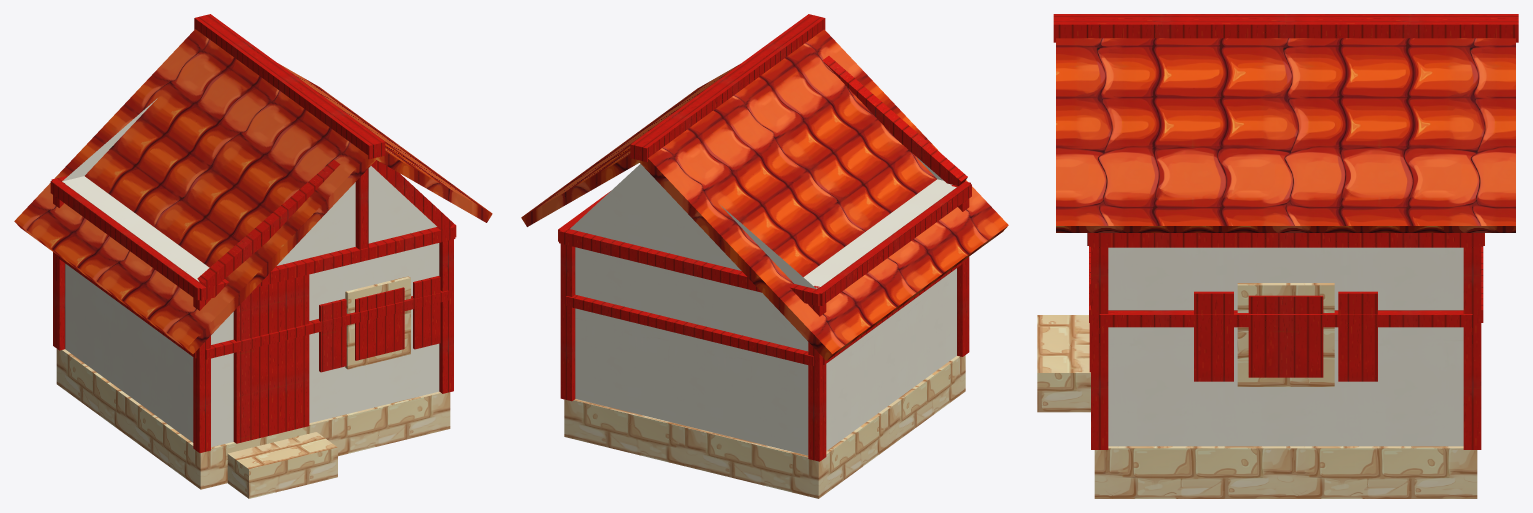
Rendered from maison_3x3.glb.
The picture shows the model from 3 angles, left to right: view 1: azimuth 30°, elevation 25°; view 2: azimuth 150°, elevation 25°; view 3: azimuth 270°, elevation 25°; orthographic projection. The views are drawn at different scales.
Visible parts, largest first — view 1: Cube.017, Cube.001, Cube, Cube.020, pignon_avant, Cube.021, Cube.019, Cube.006, Cube.018, Cube.010, Cube.014, Cube.007 (+10 smaller); view 2: Cube.017, Cube.001, Cube, pignon_arriere, Cube.019, Cube.008, Cube.009, Cube.018, Cube.010, Cube.014, Cube.005, Cube.004 (+1 smaller); view 3: Cube.018, Cube.001, Cube, Cube.019, Cube.013, Cube.012, Cube.027, Cube.021, Cube.026, Cube.005, Cube.003, Cube.028 (+1 smaller).
Boxes of the visible parts, <box> form: Cube.017: <box>14,29,378,353</box>; Cube.001: <box>62,176,439,447</box>; Cube: <box>56,349,450,489</box>; Cube.020: <box>233,274,309,443</box>; pignon_avant: <box>277,166,436,265</box>; Cube.021: <box>227,432,337,498</box>; Cube.019: <box>194,14,385,159</box>; Cube.006: <box>199,226,455,300</box>; Cube.018: <box>278,63,492,222</box>; Cube.010: <box>50,180,201,300</box>; Cube.014: <box>197,159,340,290</box>; Cube.007: <box>205,290,448,359</box>; Cube.017: <box>638,29,1008,360</box>; Cube.001: <box>575,179,956,455</box>; Cube: <box>564,355,965,498</box>; pignon_arriere: <box>570,164,816,289</box>; Cube.019: <box>630,14,825,162</box>; Cube.008: <box>559,230,819,306</box>; Cube.009: <box>565,294,813,366</box>; Cube.018: <box>521,64,739,226</box>; Cube.010: <box>819,184,971,305</box>; Cube.014: <box>822,56,967,185</box>; Cube.005: <box>560,225,575,401</box>; Cube.004: <box>808,286,826,461</box>; Cube.018: <box>1056,38,1515,232</box>; Cube.001: <box>1108,247,1463,446</box>; Cube: <box>1094,446,1477,498</box>; Cube.019: <box>1053,14,1518,42</box>; Cube.013: <box>1099,310,1472,327</box>; Cube.012: <box>1091,233,1481,247</box>; Cube.027: <box>1248,295,1323,377</box>; Cube.021: <box>1037,315,1090,412</box>; Cube.026: <box>1237,283,1334,386</box>; Cube.005: <box>1463,247,1481,449</box>; Cube.003: <box>1091,247,1108,449</box>; Cube.028: <box>1194,291,1233,381</box>.
Size of the model in its own units: 3.77 by 3.75 by 3.87.
4 materials, 4 textured.
